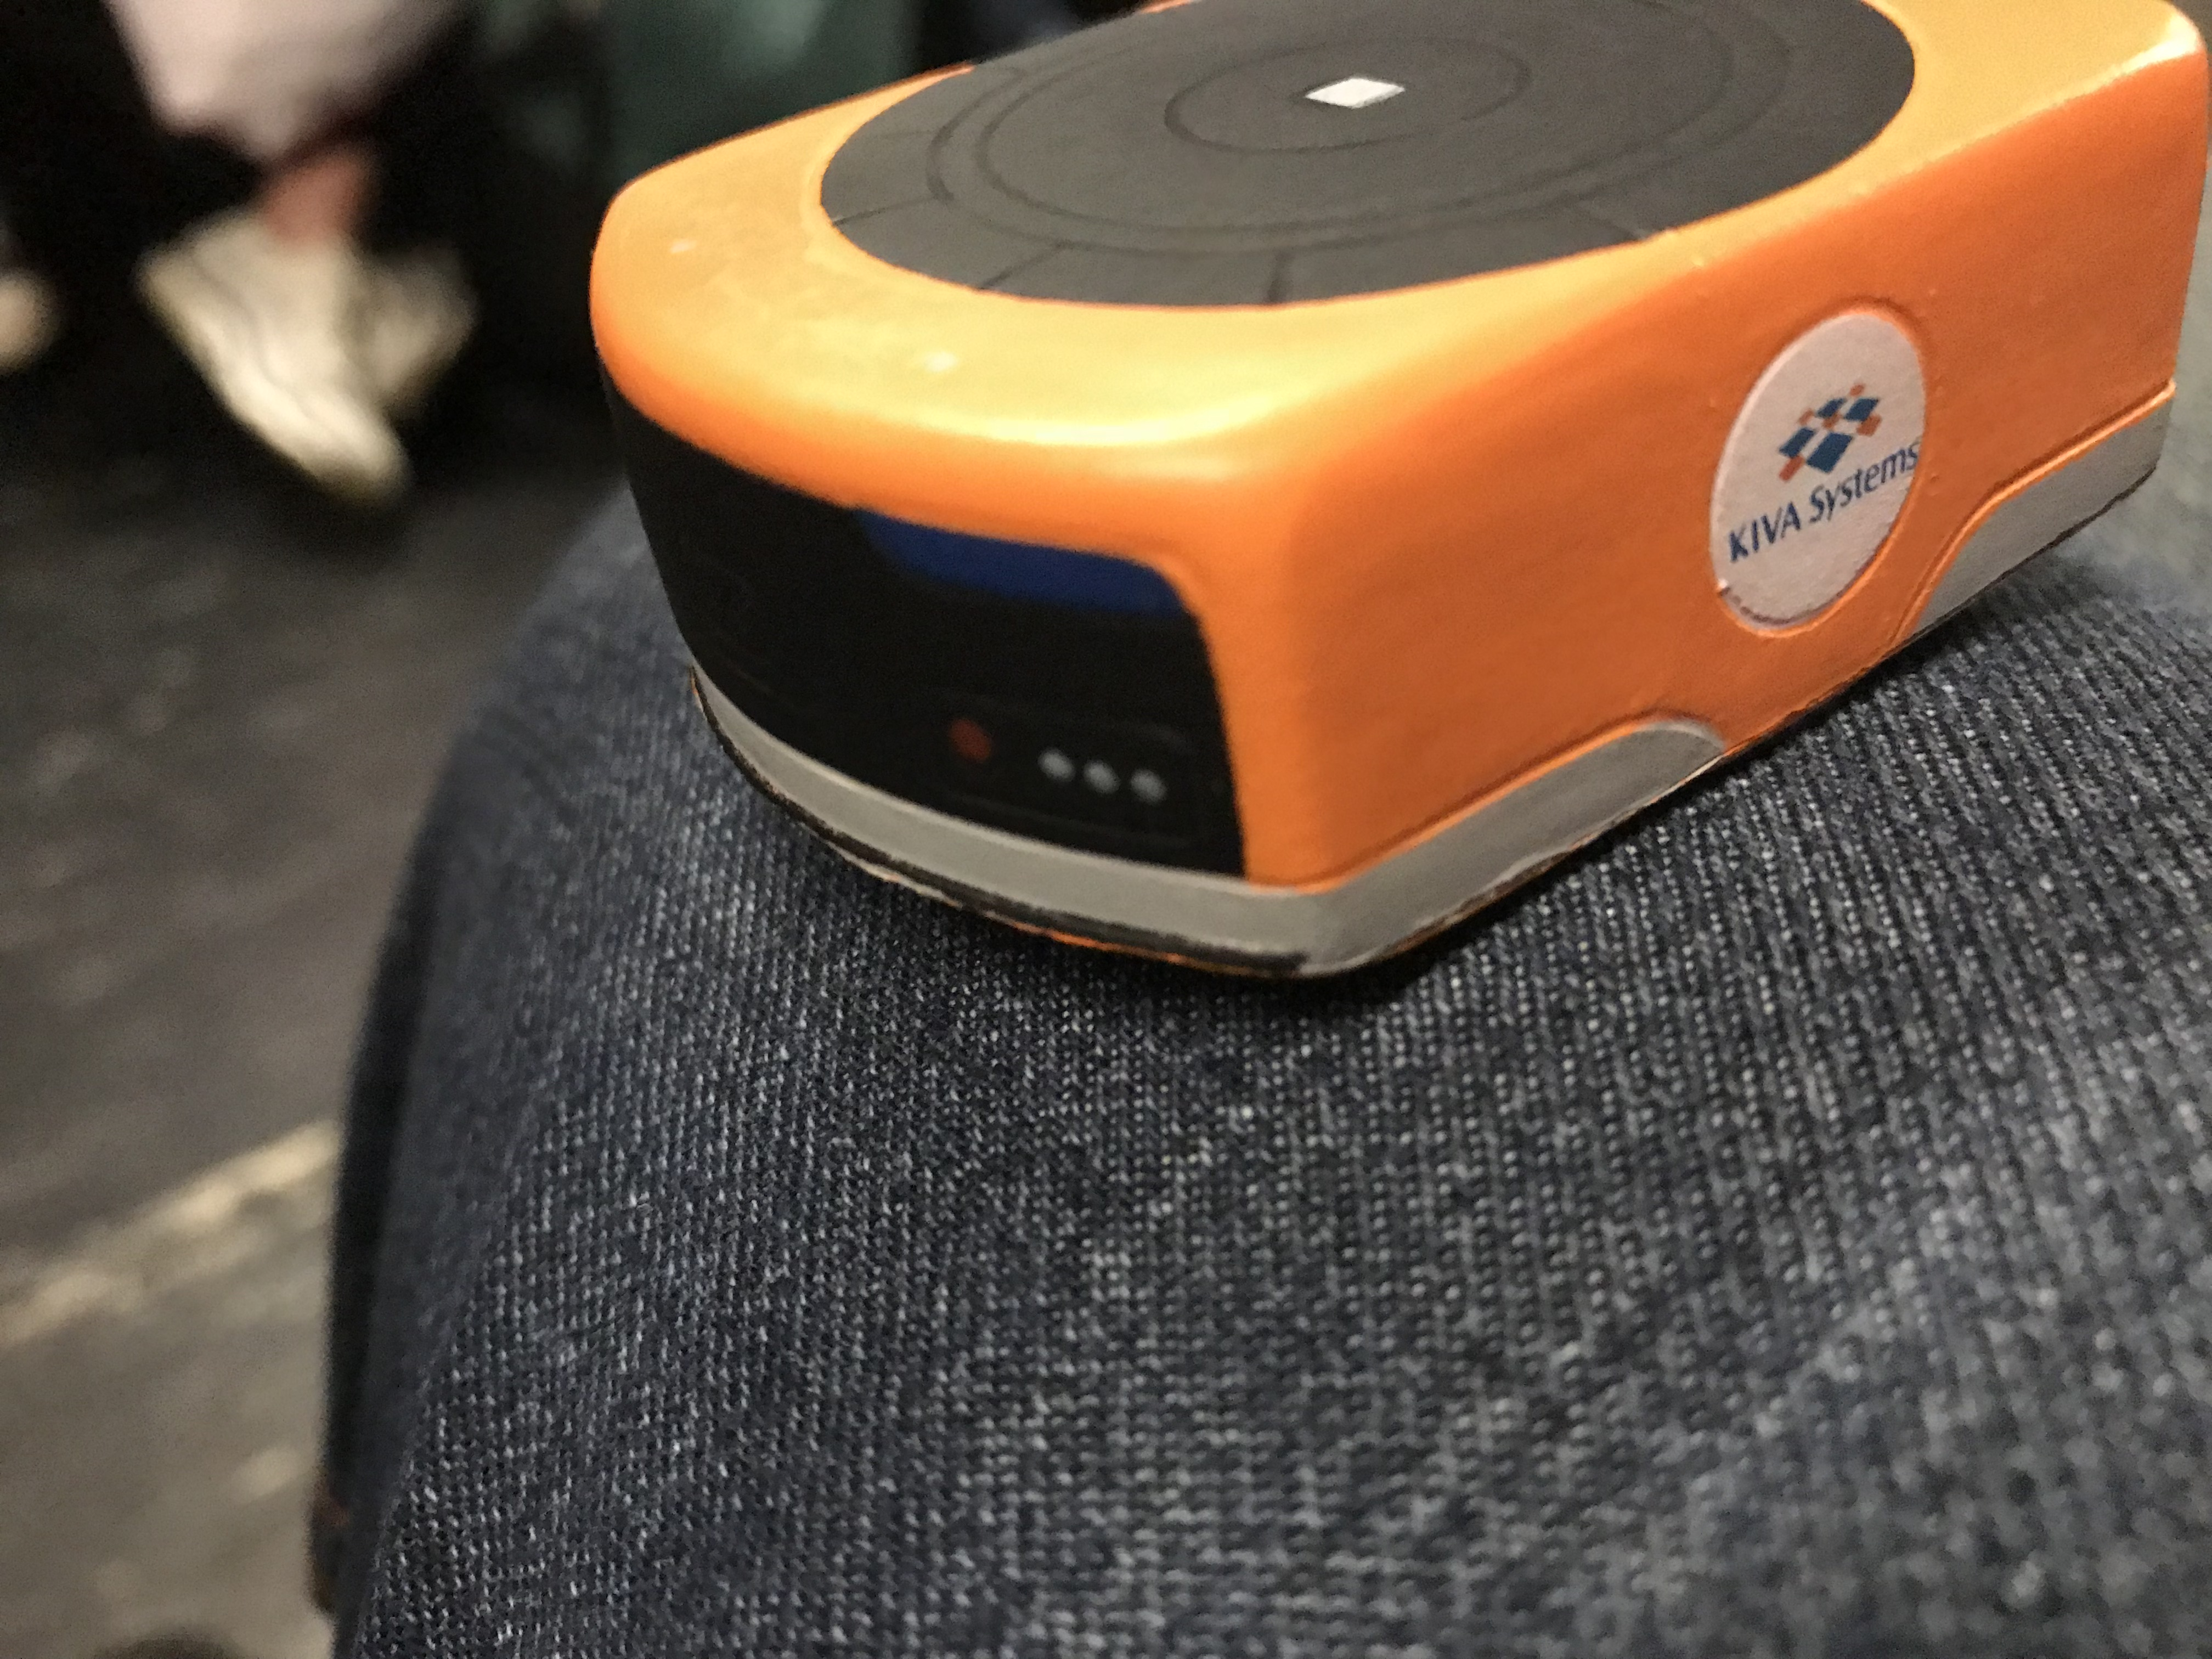amazon_bot: (557, 5, 2212, 988)
